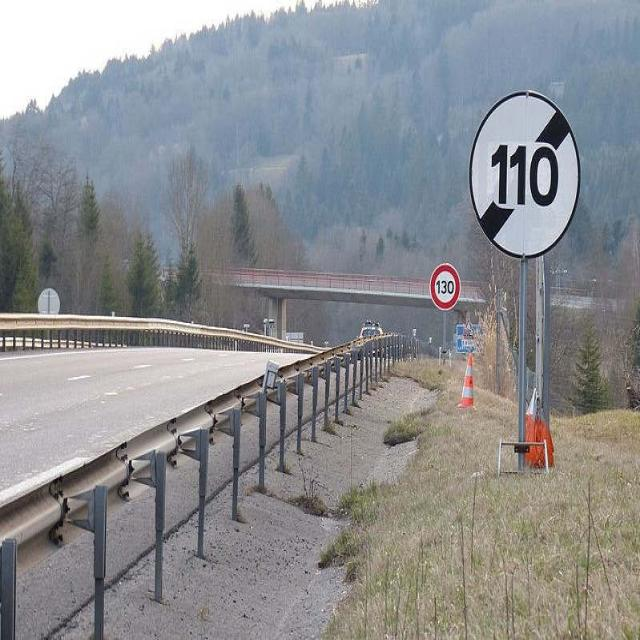speed: (469, 87, 578, 255), (428, 263, 460, 311)
